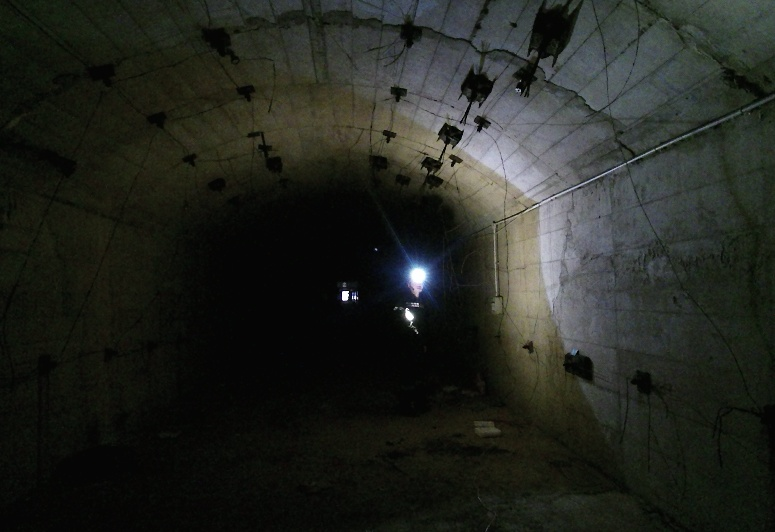person: (387, 272, 435, 420)
